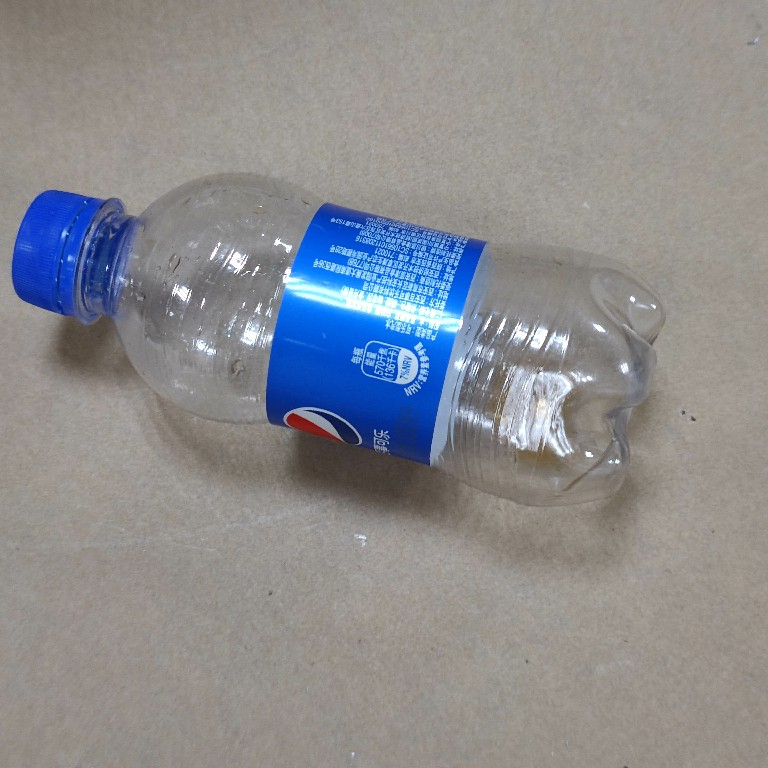bottle: (7, 167, 672, 520)
